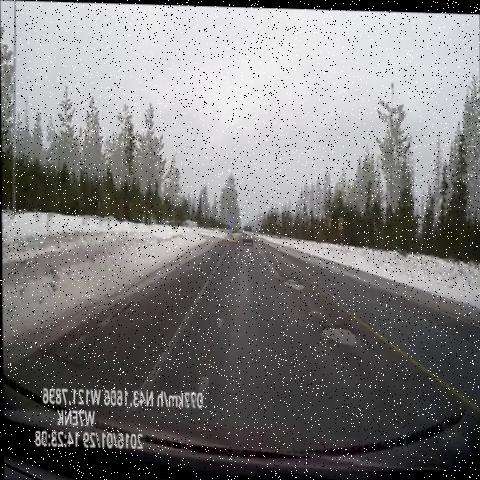pothole: (308, 318, 368, 357), (274, 265, 309, 295)
